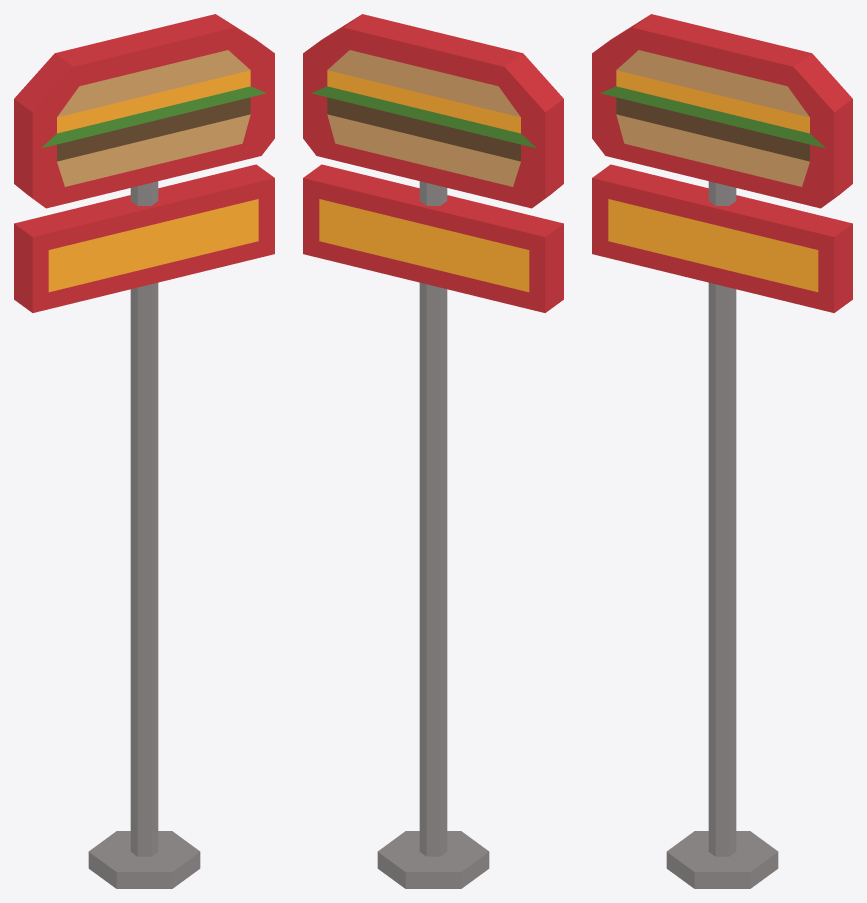
Rendered from burger-joint-sign.glb.
3 views of the same model, side by side, from view 1: azimuth 30°, elevation 25°; view 2: azimuth 150°, elevation 25°; view 3: azimuth 330°, elevation 25° (orthographic).
Parts seen in each view (by area): view 1: burger-joint-sign; view 2: burger-joint-sign; view 3: burger-joint-sign.
Boxes of the visible parts, x1,y1,x2,y2 form: burger-joint-sign: [14, 14, 274, 888]; burger-joint-sign: [303, 14, 563, 888]; burger-joint-sign: [592, 14, 852, 888].
Bounding box in the file's own units: 3 × 9.8 × 1.2.
1 material, 1 textured.
